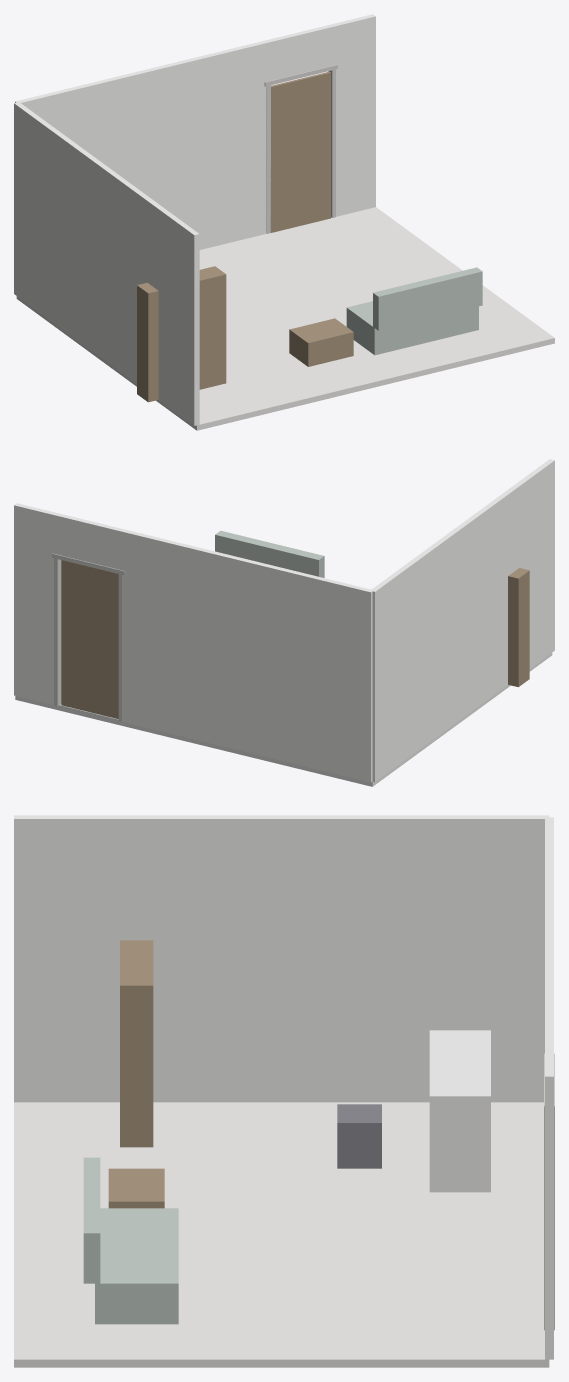
The model's file is scene-gallery-lounge.glb.
The picture shows the model from 3 angles, top to bottom: view 1: azimuth 30°, elevation 25°; view 2: azimuth 150°, elevation 25°; view 3: azimuth 270°, elevation 25°; orthographic projection. The views are drawn at different scales.
Visible parts, largest first — view 1: floor, wall_left, wall_back_l, door_back, wall_back_r, bookshelf, lounge_sofa_back, lounge_sofa_seat, wall_back_lintel, lounge_table, frame_back_r, frame_back_l; view 2: wall_back_l, wall_left, door_back, wall_back_r, wall_back_lintel, bookshelf, lounge_sofa_back, floor, frame_back_r, frame_back_l; view 3: wall_left, floor, reception_desk, lounge_sofa_seat, bookshelf, reception_chair, wall_back_r, lounge_table, lounge_sofa_back, wall_back_l.
Part boxes in pixels (x1,y1,x2,y2): floor: (16, 207, 554, 430); wall_left: (14, 102, 199, 425); wall_back_l: (15, 40, 268, 249); door_back: (270, 71, 330, 232); wall_back_r: (331, 14, 375, 216); bookshelf: (137, 266, 226, 402); lounge_sofa_back: (373, 267, 482, 330); lounge_sofa_seat: (346, 301, 478, 355); wall_back_lintel: (264, 24, 337, 81); lounge_table: (289, 318, 353, 366); frame_back_r: (328, 67, 335, 217); frame_back_l: (266, 83, 270, 233); wall_back_l: (121, 530, 373, 782); wall_left: (372, 459, 554, 781); door_back: (61, 560, 118, 718); wall_back_r: (14, 503, 58, 704); wall_back_lintel: (52, 513, 127, 570); bookshelf: (508, 568, 529, 687); lounge_sofa_back: (215, 530, 324, 577); floor: (15, 653, 552, 786); frame_back_r: (54, 556, 61, 706); frame_back_l: (118, 572, 122, 722); wall_left: (14, 815, 549, 1102); floor: (14, 1102, 549, 1367); reception_desk: (429, 1030, 490, 1192); lounge_sofa_seat: (95, 1208, 178, 1324); bookshelf: (120, 940, 153, 1147); reception_chair: (337, 1104, 381, 1168); wall_back_r: (545, 1046, 553, 1359); lounge_table: (108, 1168, 164, 1208); lounge_sofa_back: (83, 1157, 100, 1283); wall_back_l: (545, 817, 553, 998).
Size of the model in its own units: 5.7 by 2.88 by 4.85.
